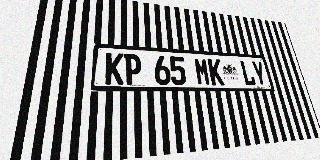5: (169, 56, 187, 85)
6: (154, 55, 171, 85)
K: (105, 53, 124, 85), (207, 58, 225, 85)
L: (239, 60, 256, 86)
M: (194, 58, 211, 85)
P: (124, 54, 142, 85)
Y: (251, 61, 268, 86)
